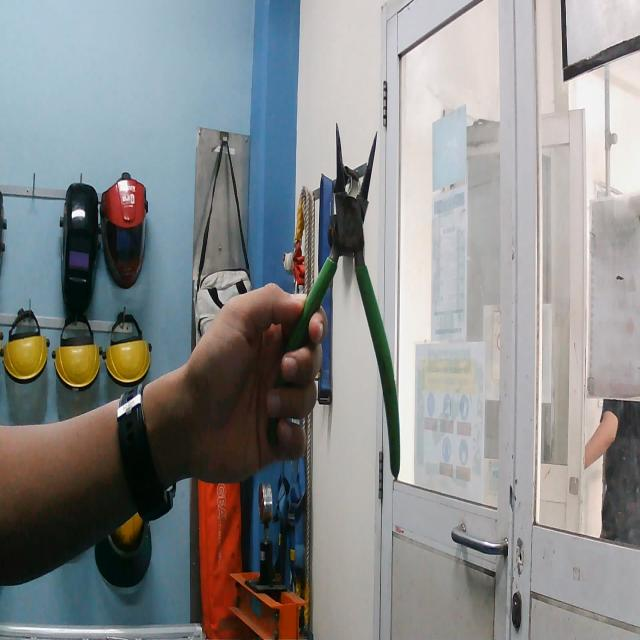tang_scun_hidrolik: (261, 106, 408, 488)
